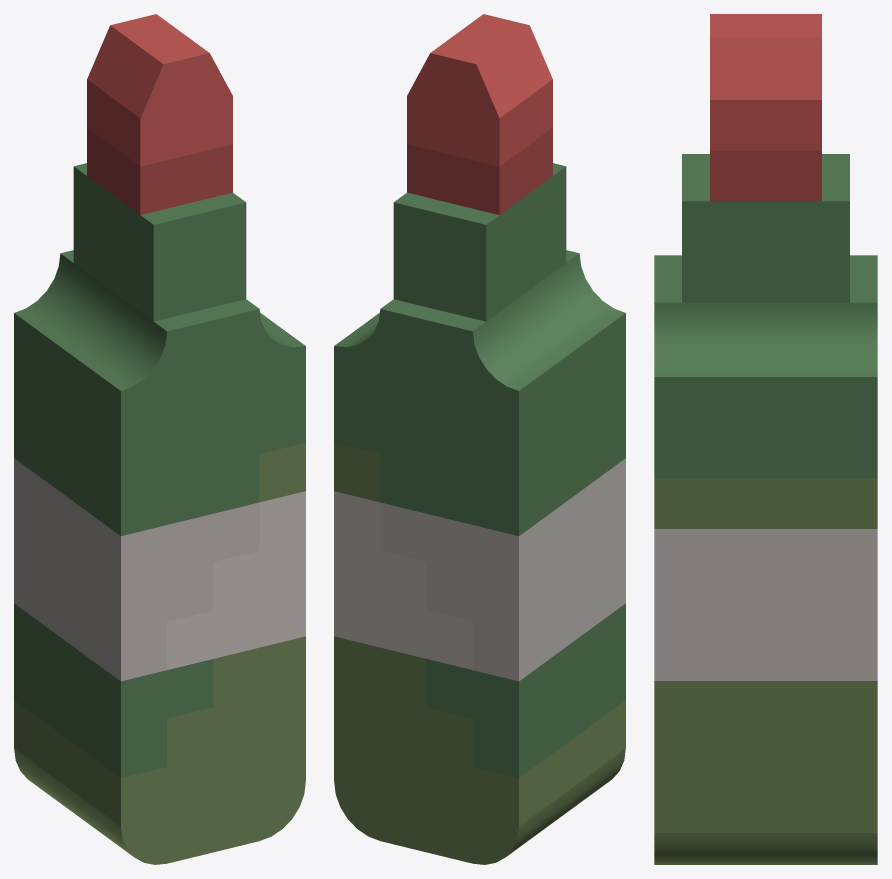
The model's file is wine.glb.
3 renders of one model, left to right at view 1: azimuth 30°, elevation 25°; view 2: azimuth 150°, elevation 25°; view 3: azimuth 270°, elevation 25°, orthographic. The views are drawn at different scales.
Parts seen in each view (by area): view 1: generated(Clone); view 2: generated(Clone); view 3: generated(Clone).
Boxes of the visible parts, x1,y1,x2,y2 form: generated(Clone): (14, 14, 305, 864); generated(Clone): (334, 14, 625, 864); generated(Clone): (654, 14, 877, 864).
Size of the model in its own units: 2 by 8 by 2.
1 material, 1 textured.
